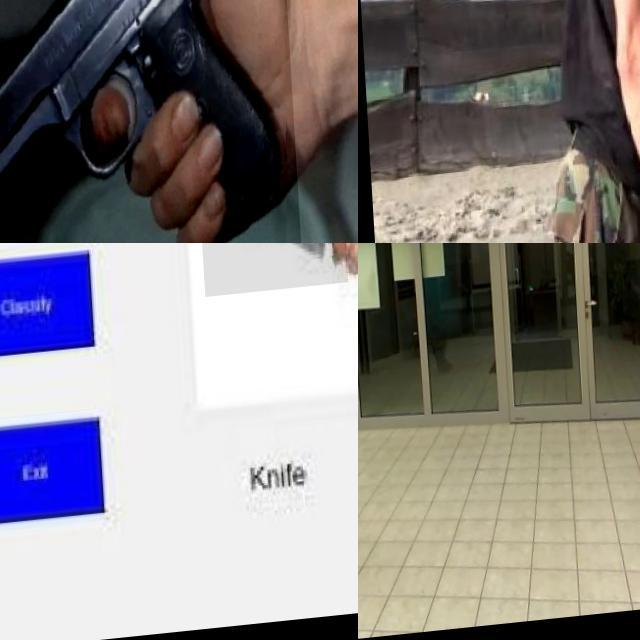-: (193, 243, 344, 335)
gun-knife-thesis - v11 Yolov5 augmented: (0, 0, 296, 243), (358, 357, 380, 401)
